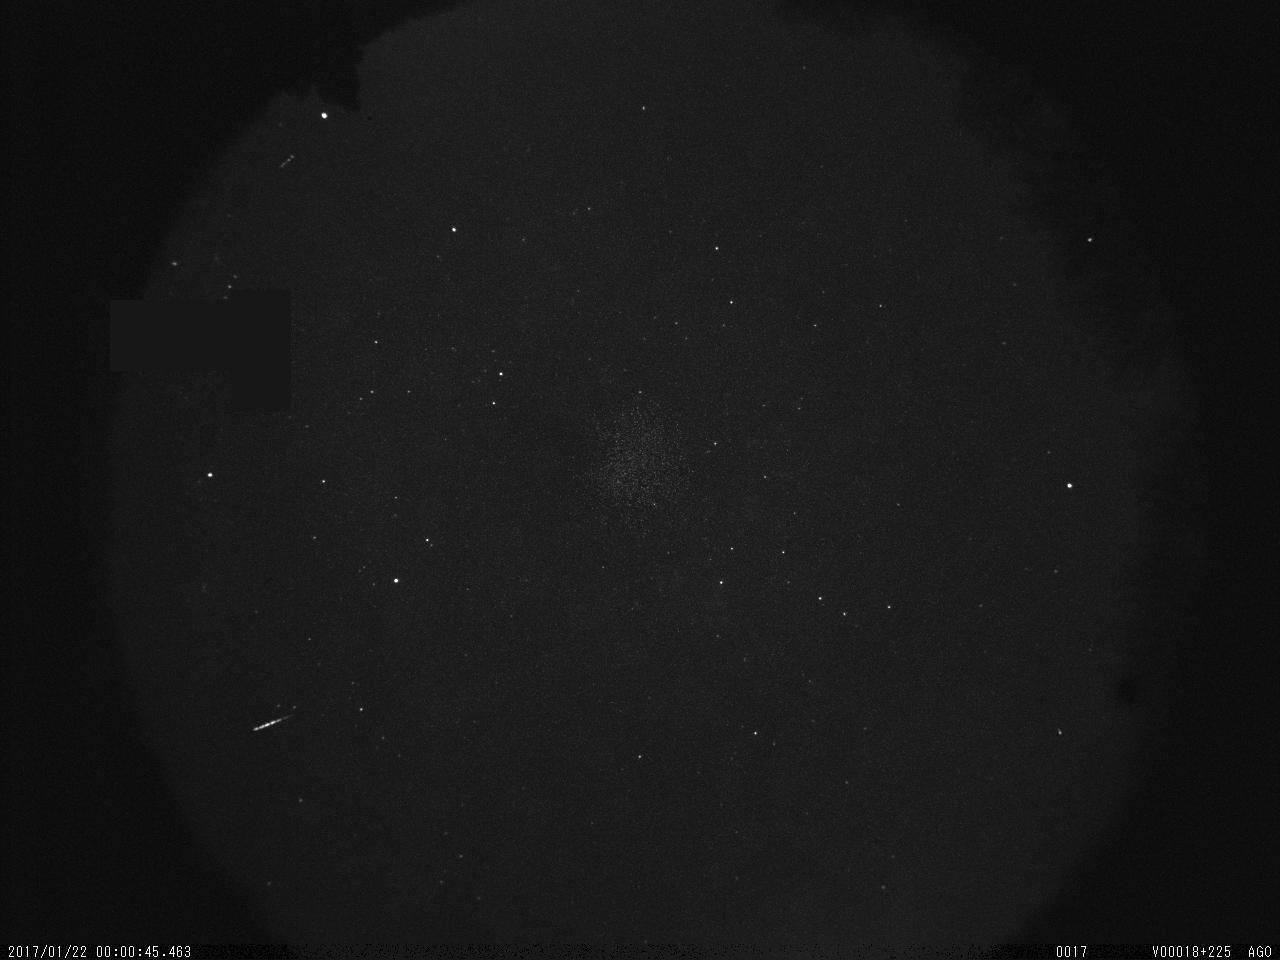meteor: (239, 710, 298, 738)
